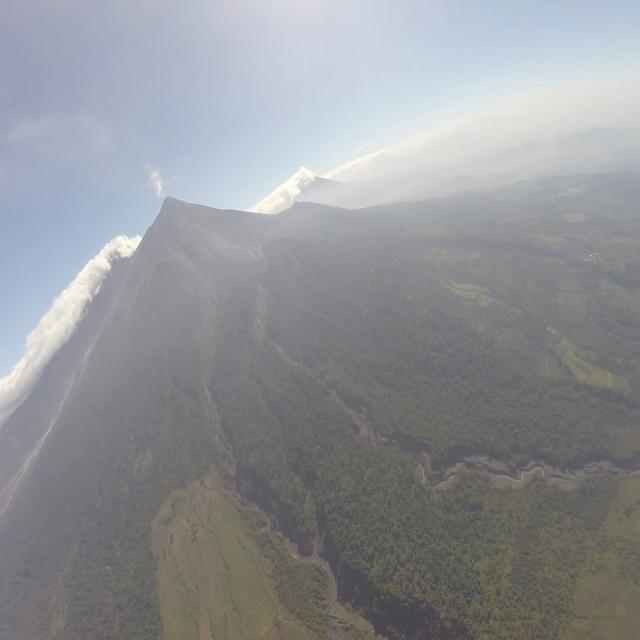Plume: (151, 168, 164, 198)
Summit: (158, 194, 184, 219)
